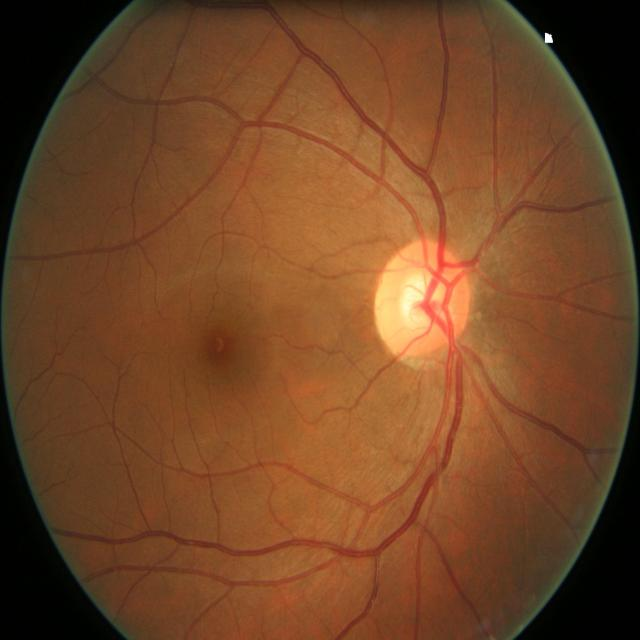OC: (398, 269, 451, 330)
OD: (373, 239, 472, 358)
